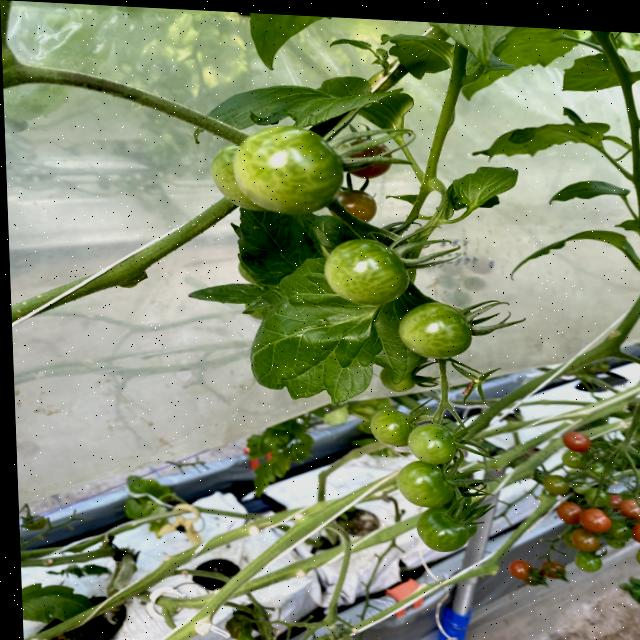ripe0: (234, 125, 347, 219), (325, 237, 411, 308), (397, 298, 475, 362), (398, 460, 460, 510), (414, 507, 473, 553), (407, 422, 458, 467), (371, 407, 411, 445)
